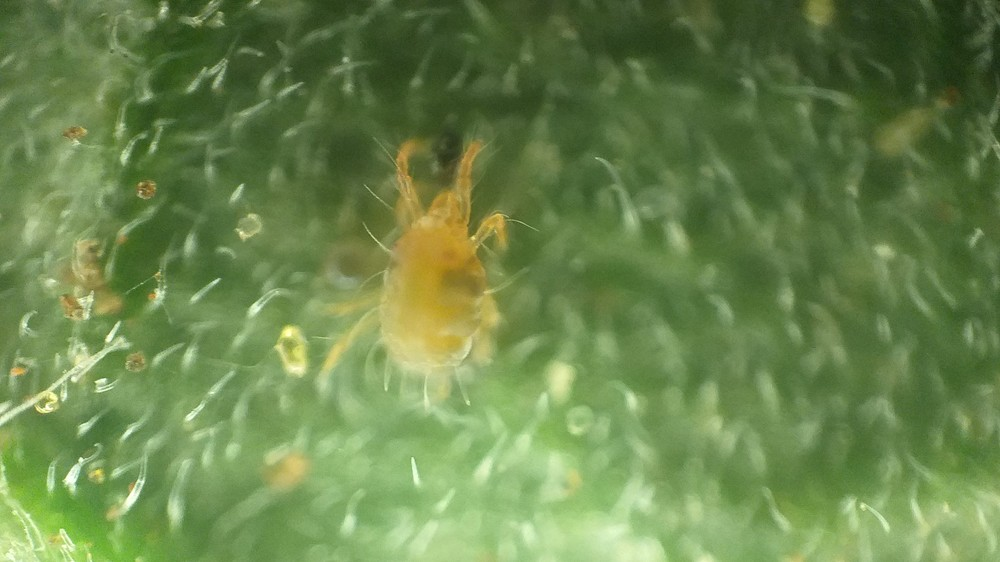Aracnido Rojo: (326, 128, 545, 417)
